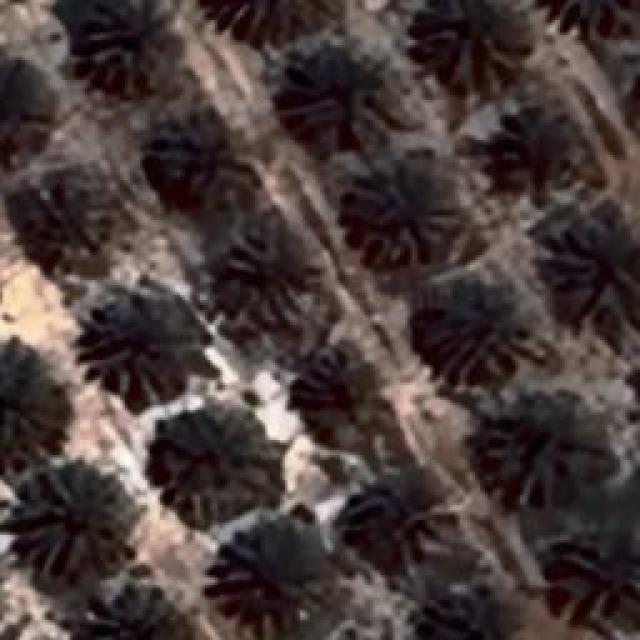PalmTree: (150, 402, 272, 512), (10, 462, 125, 576), (414, 282, 532, 388), (218, 524, 332, 626), (86, 294, 202, 394), (15, 172, 130, 272), (336, 168, 454, 260), (280, 58, 392, 154), (484, 399, 588, 499), (414, 0, 528, 85), (75, 0, 180, 92), (557, 220, 640, 325), (0, 346, 75, 462), (210, 224, 308, 312), (302, 352, 392, 446), (144, 115, 246, 195), (348, 492, 452, 566), (194, 0, 353, 48), (545, 531, 640, 609), (422, 575, 530, 640), (76, 585, 172, 640), (505, 109, 575, 179), (533, 0, 639, 46), (0, 71, 42, 156)
